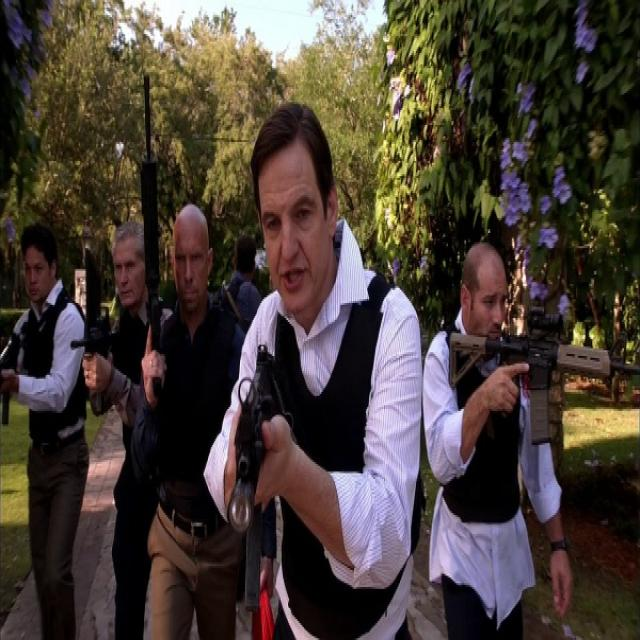rifle: (445, 300, 640, 451), (137, 63, 173, 466), (225, 343, 286, 546), (1, 304, 37, 425)
